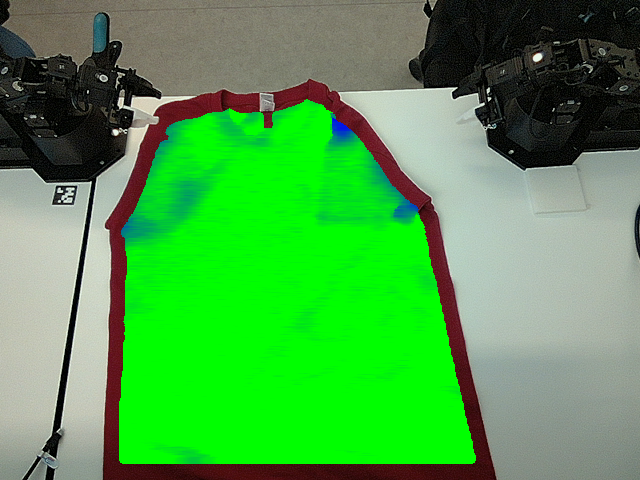V: (309, 198, 346, 235)
